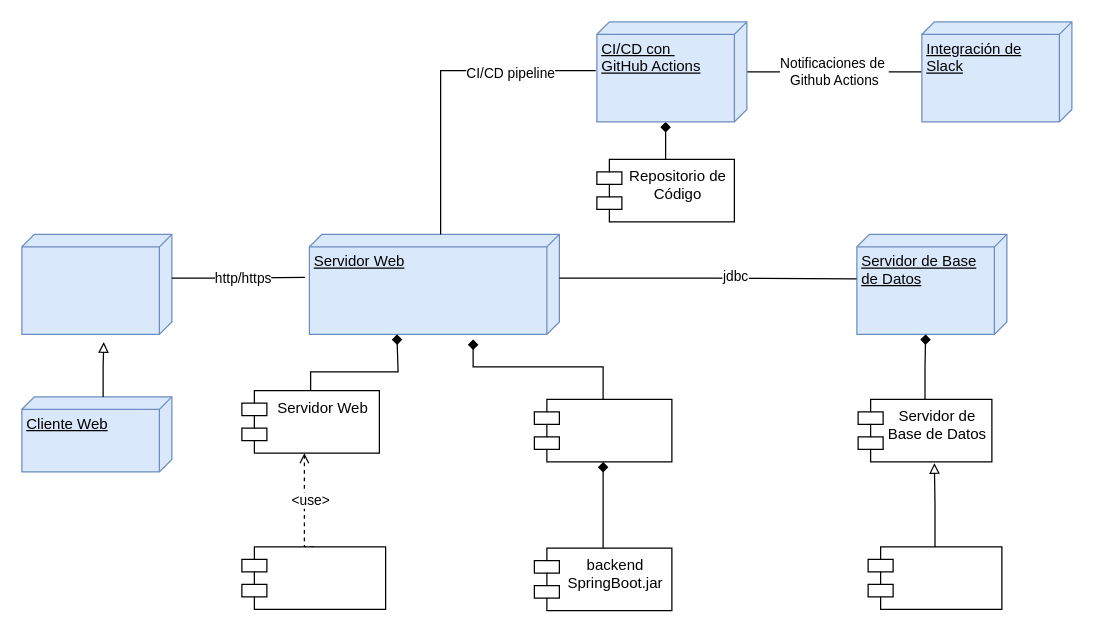
Some shapes in this 1094 by 633 pixel diagram are drawn without their labels. Here are the shapes that lost their labels. From the top down, the centre of each, then its label:
the point at 96,283: Cliente
the point at 602,430: Servidor de Aplicación
the point at 313,577: Navegador
the point at 934,577: PostgreSQL
